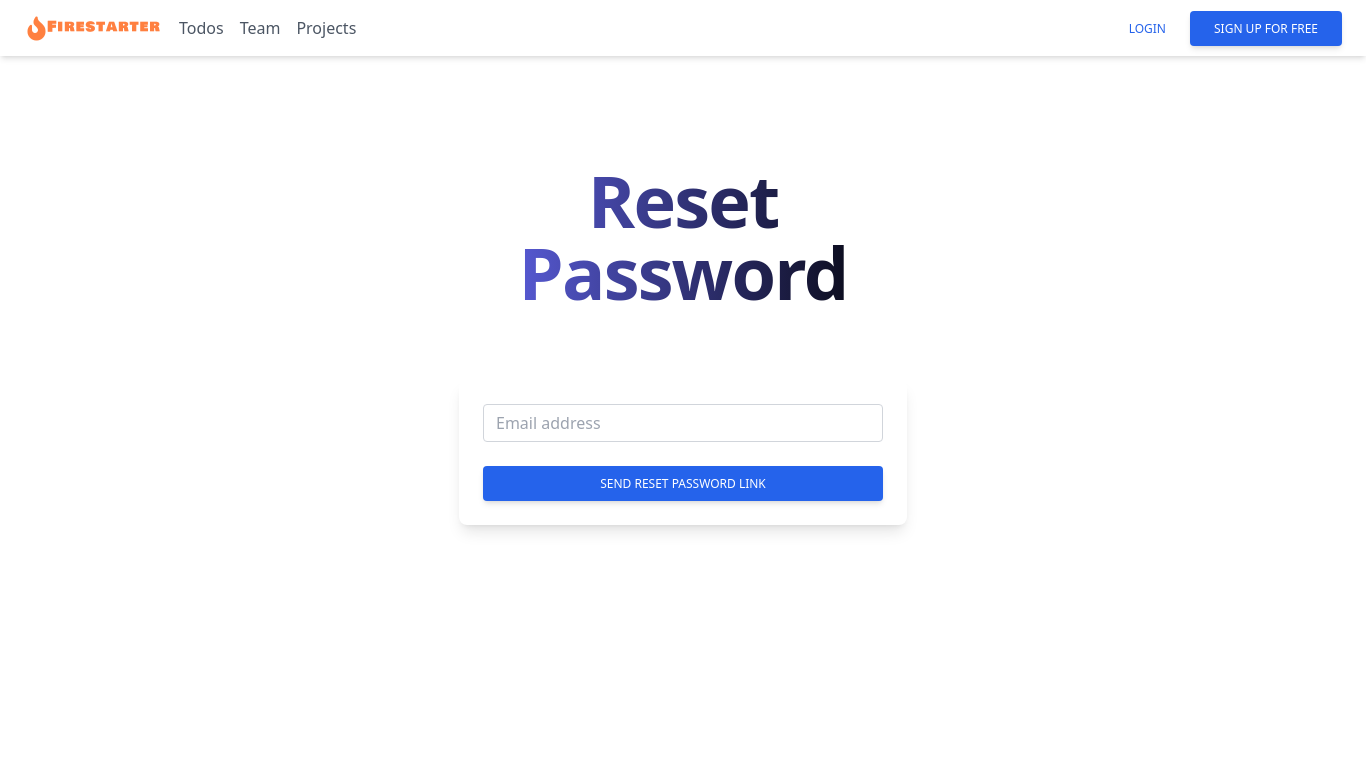
Test: ResetPassword › handles firebase error return code › user-not-found
In the field with placeholder "Email address": (683, 423) 483,404 -> 883,442, type "me@them.com"
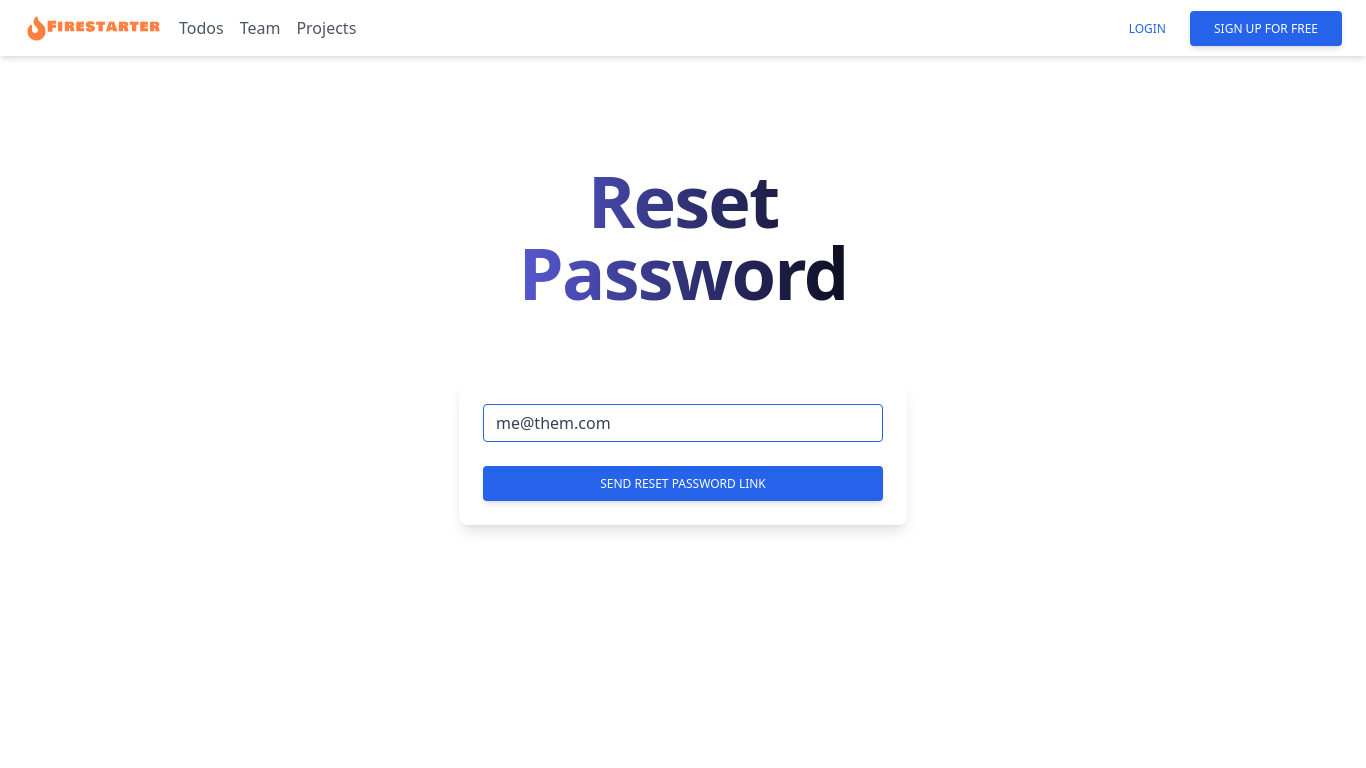
Click the button "Send Reset Password Link": (683, 484) 483,466 -> 883,501
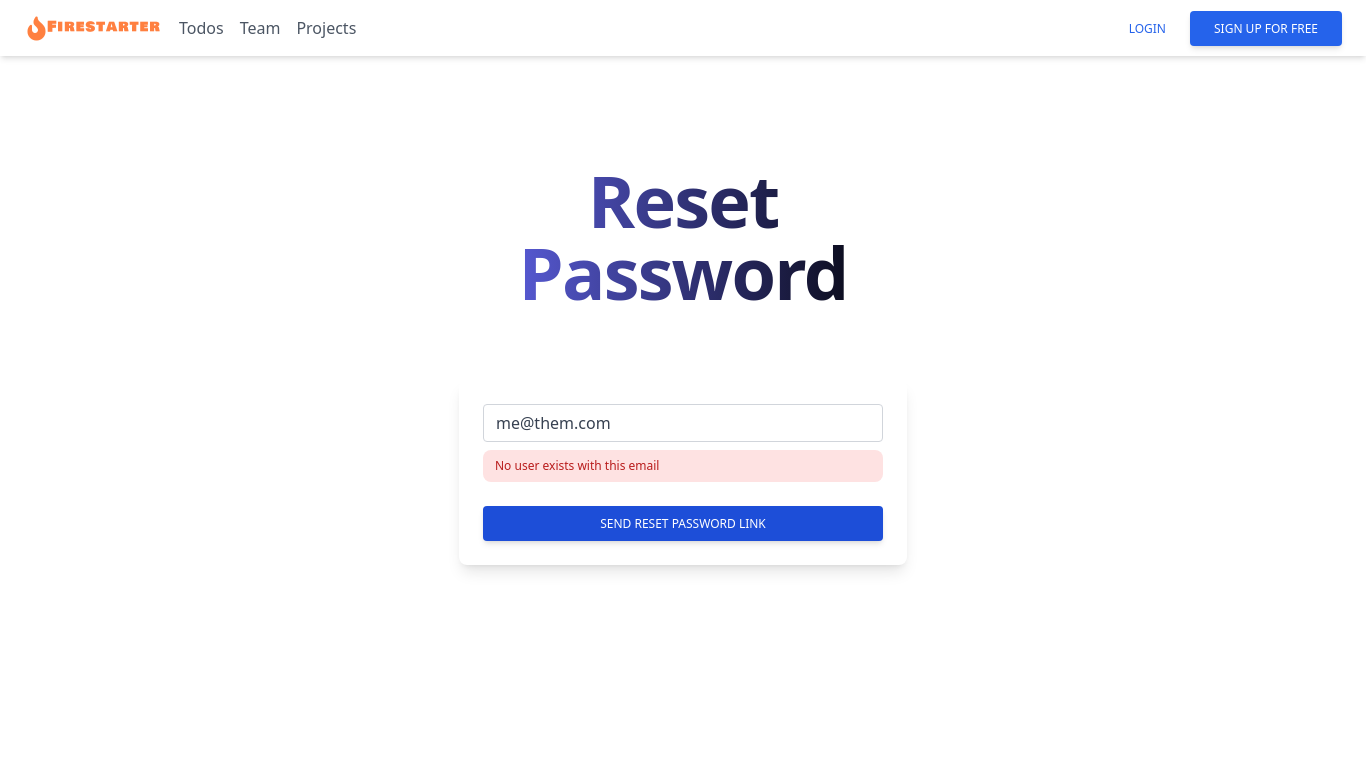
Now the number of messages is 1, box 483,450 -> 883,482
Now the message reads "No user exists with this email", box 495,457 -> 660,474
